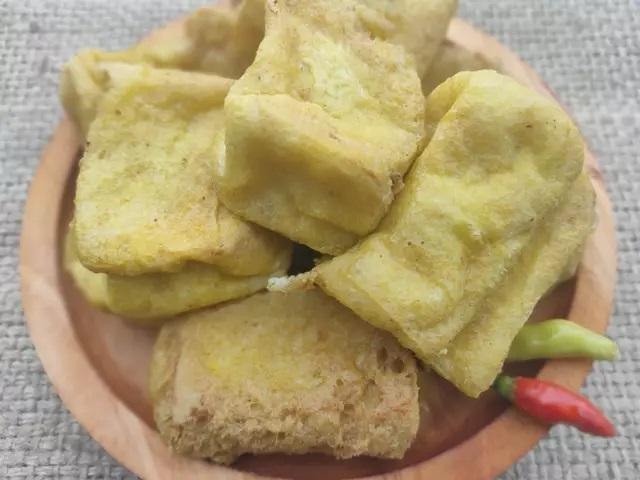kacang_legume: (422, 104, 538, 323), (104, 87, 217, 263), (188, 323, 355, 438), (273, 27, 374, 210)
